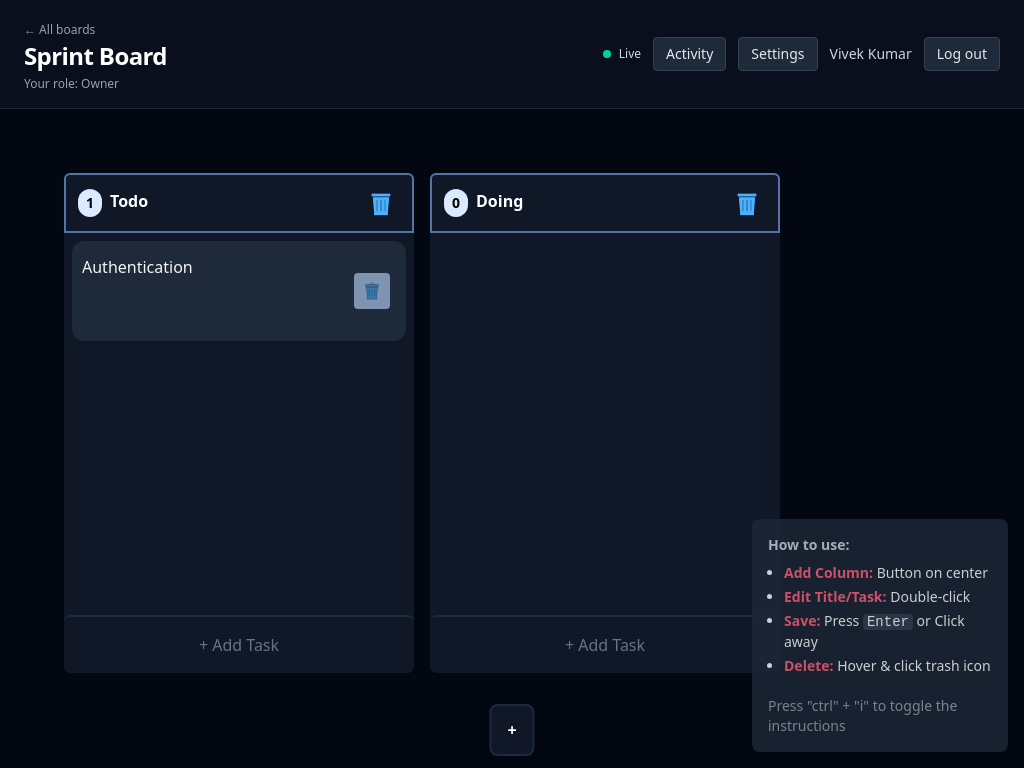
Test case: editing a task while others edit it too › when we both changed the same field, I'm warned, my value is kept, and Reset takes theirs
The width and height of the screenshot is (1024, 768).
Step 1. Click the text "Authentication" → coordinates (137, 267), box [82,256,193,278]
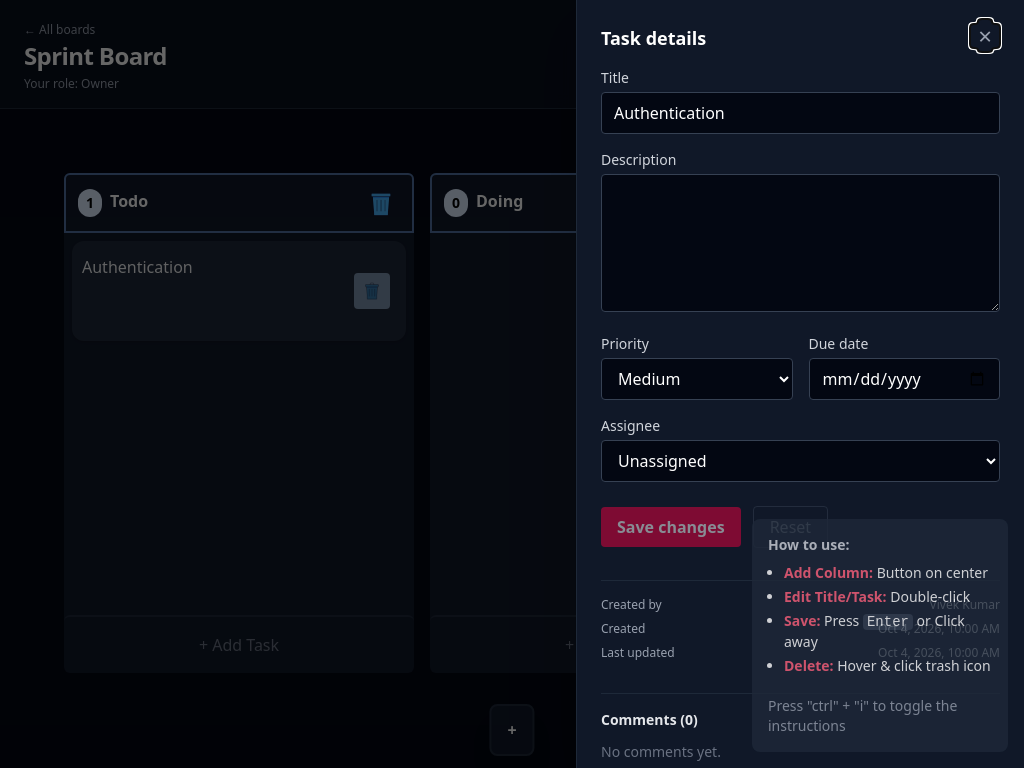
Step 2. Replace the text in the field labelled "Title" with "Mine" → coordinates (800, 113), box [601,92,1000,134]
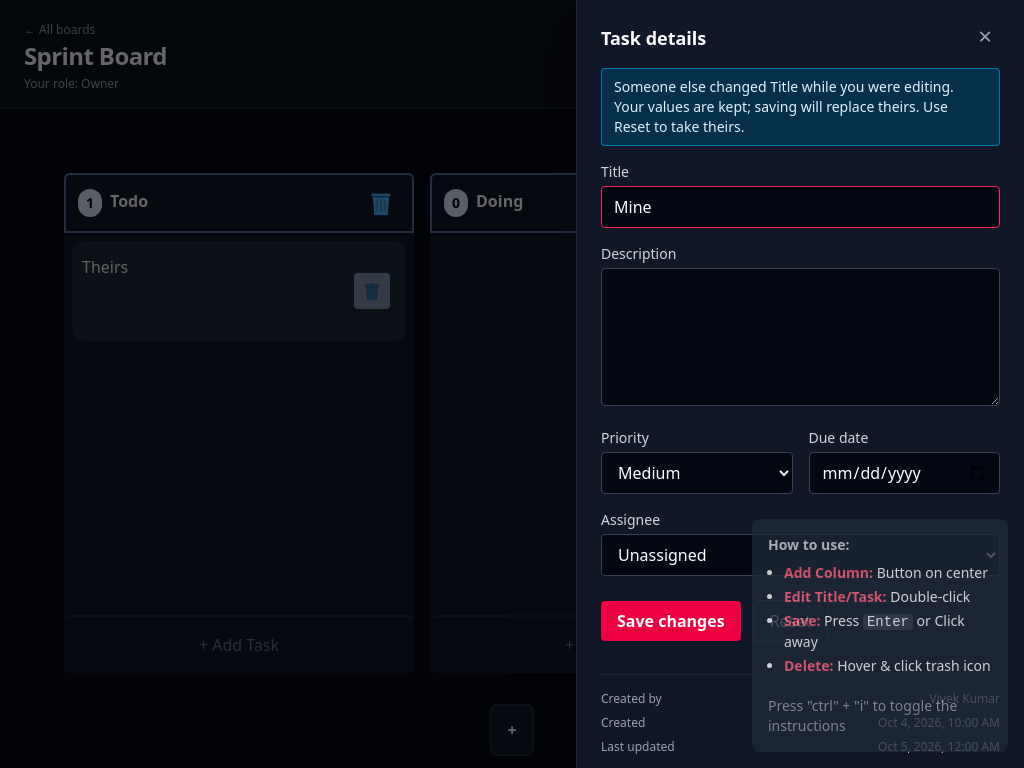
Result: the text "Someone else changed Title while you were editing" is shown at [601,68,1000,146]
Step 3. Click the button "Reset" → coordinates (790, 621), box [753,600,828,642]
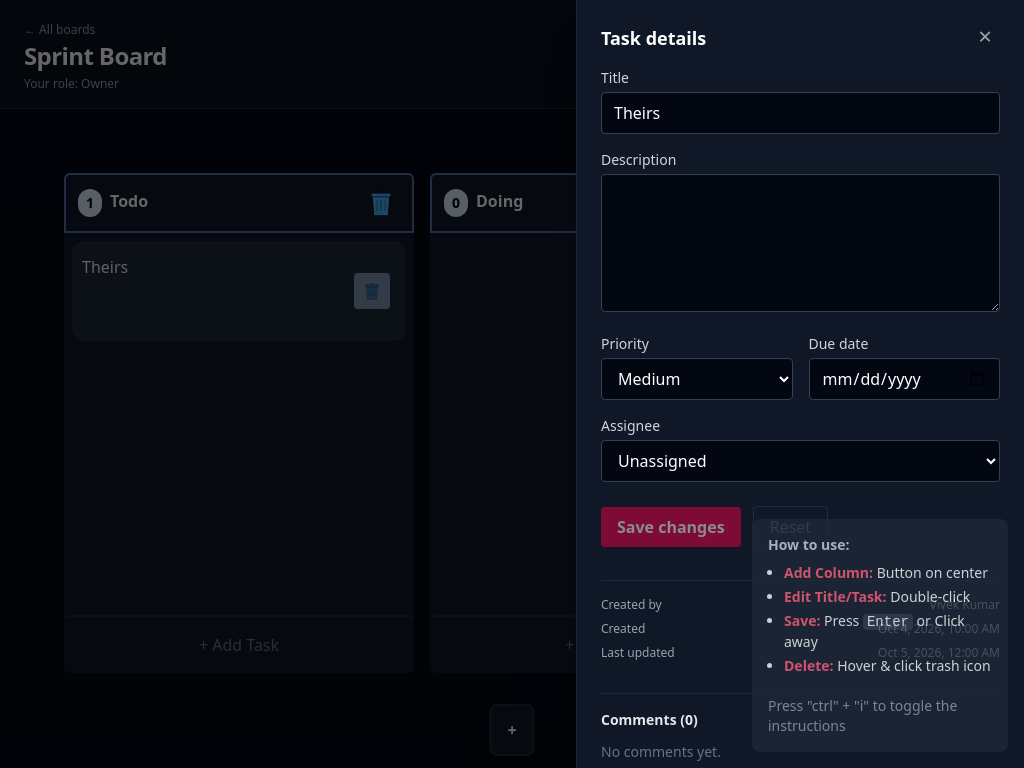
Result: the field labelled "Title" holds "Theirs" at [601,92,1000,134]
Result: the text "Someone else changed" is gone
